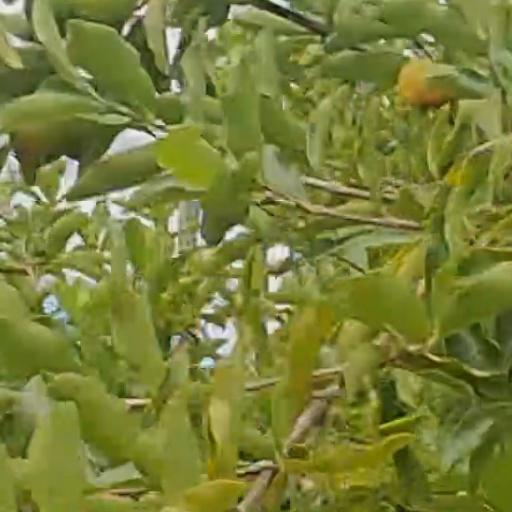acerola: (397, 58, 450, 107)
